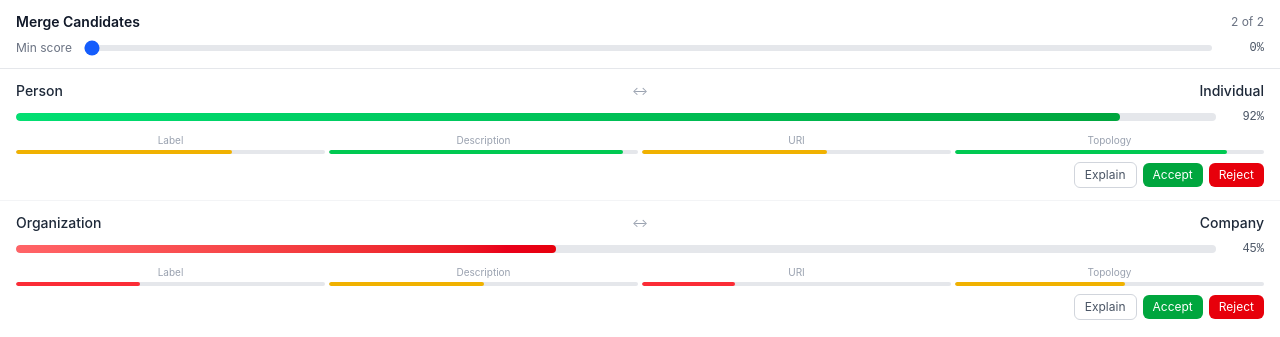
Scenario: MergeCandidates › updates candidate status on reject
Step 1. Click the button with test id "reject-btn-pair_001" → x=1236, y=175, box [1209,163,1264,187]
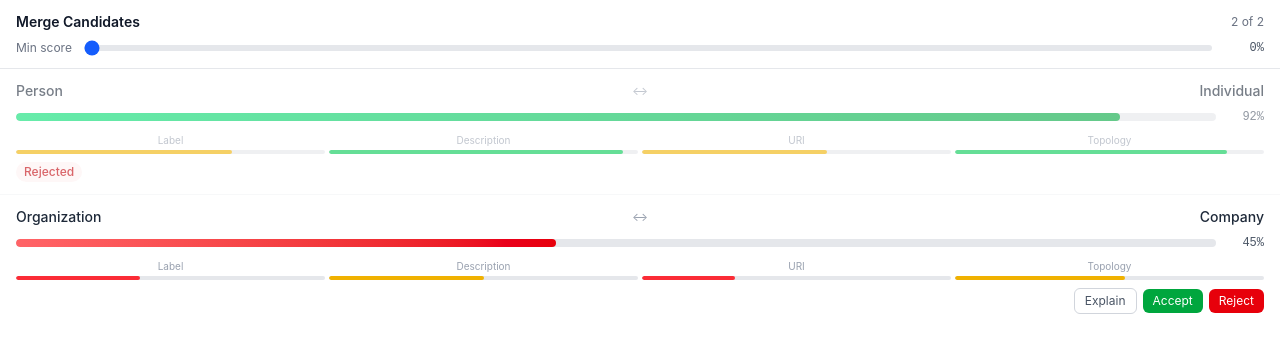
Result: the text with test id "status-pair_001" reads "Rejected" at [24,164,74,179]
